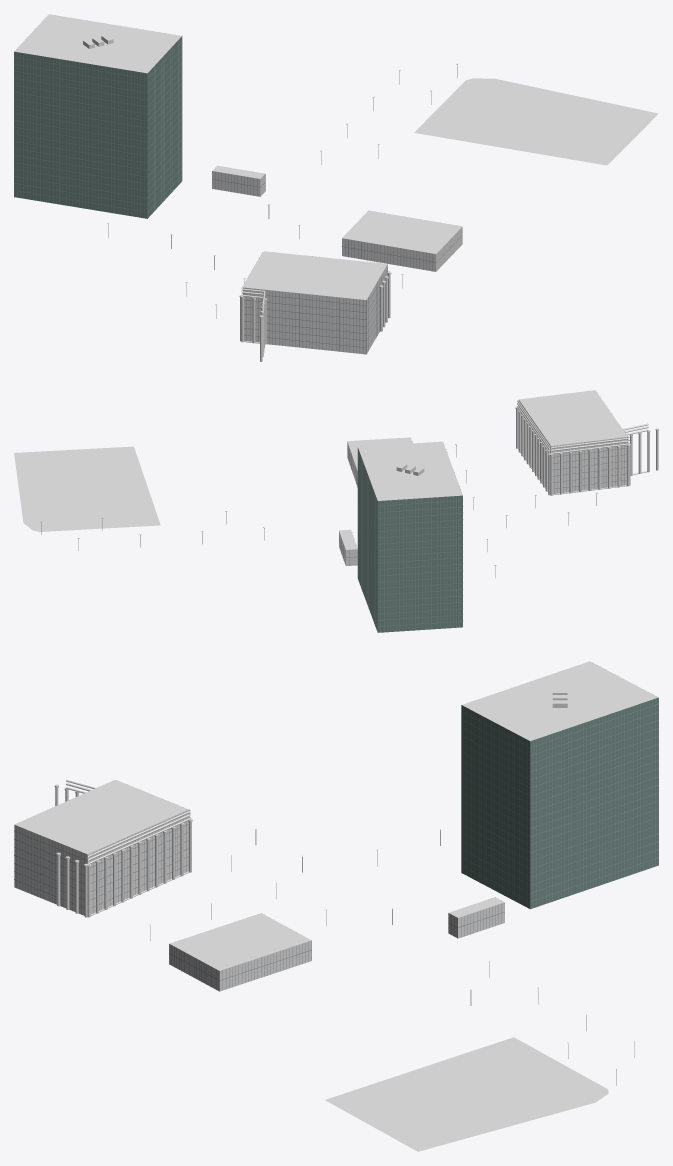
3 renders of one model, top to bottom at view 1: azimuth 30°, elevation 25°; view 2: azimuth 150°, elevation 25°; view 3: azimuth 270°, elevation 25°, orthographic. The views are drawn at different scales.
Parts seen in each view (by area): view 1: 1_0_v02 绿灰幕墙, 1_0_v02 深灰屋面, 1_0_v02 铝合金幕墙框, 1_0_v02 草地, 1_0_v02 米白石材, 1_0_v04 平安玫瑰白麻石; view 2: 1_0_v02 绿灰幕墙, 1_0_v02 草地, 1_0_v02 深灰屋面, 1_0_v02 铝合金幕墙框, 1_0_v04 平安玫瑰白麻石, 1_0_v02 米白石材; view 3: 1_0_v02 绿灰幕墙, 1_0_v02 深灰屋面, 1_0_v02 铝合金幕墙框, 1_0_v02 草地, 1_0_v02 米白石材, 1_0_v04 平安玫瑰白麻石.
Boxes of the visible parts, box(x1,y1,x2,y2) form: 1_0_v02 绿灰幕墙: box(14, 36, 182, 218); 1_0_v02 深灰屋面: box(14, 14, 462, 299); 1_0_v02 铝合金幕墙框: box(14, 37, 462, 354); 1_0_v02 草地: box(414, 78, 658, 165); 1_0_v02 米白石材: box(212, 171, 462, 354); 1_0_v04 平安玫瑰白麻石: box(239, 252, 391, 361); 1_0_v02 绿灰幕墙: box(358, 448, 462, 632); 1_0_v02 草地: box(14, 446, 160, 531); 1_0_v02 深灰屋面: box(339, 390, 627, 549); 1_0_v02 铝合金幕墙框: box(340, 405, 627, 632); 1_0_v04 平安玫瑰白麻石: box(515, 400, 658, 495); 1_0_v02 米白石材: box(339, 400, 627, 565); 1_0_v02 绿灰幕墙: box(461, 697, 658, 908); 1_0_v02 深灰屋面: box(14, 661, 658, 970); 1_0_v02 铝合金幕墙框: box(14, 698, 658, 991); 1_0_v02 草地: box(325, 1037, 608, 1151); 1_0_v02 米白石材: box(14, 809, 504, 991); 1_0_v04 平安玫瑰白麻石: box(54, 780, 192, 917).
Bounding box in the file's own units: 306 × 77.25 × 260.
